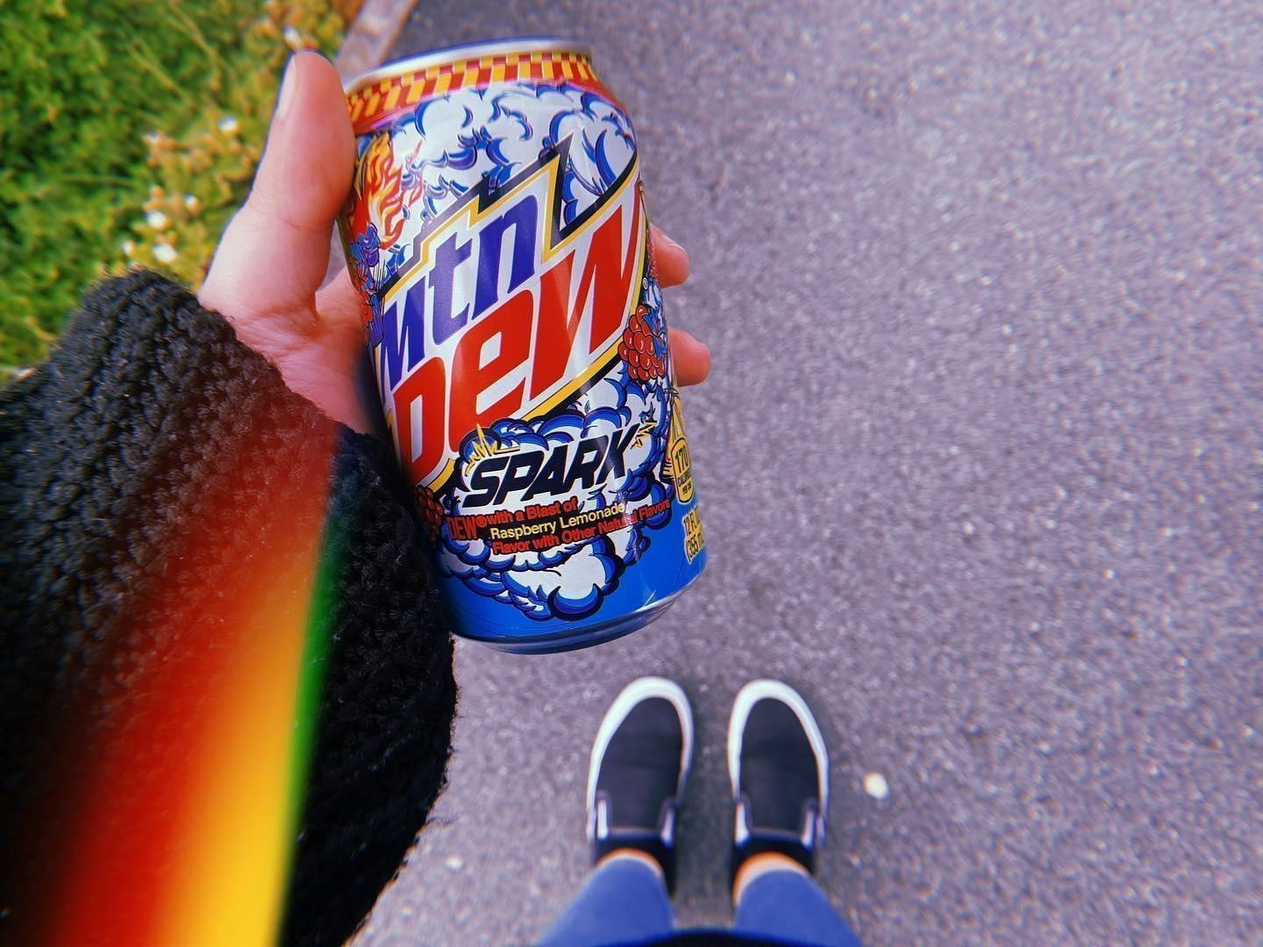tin can: (337, 33, 728, 655)
